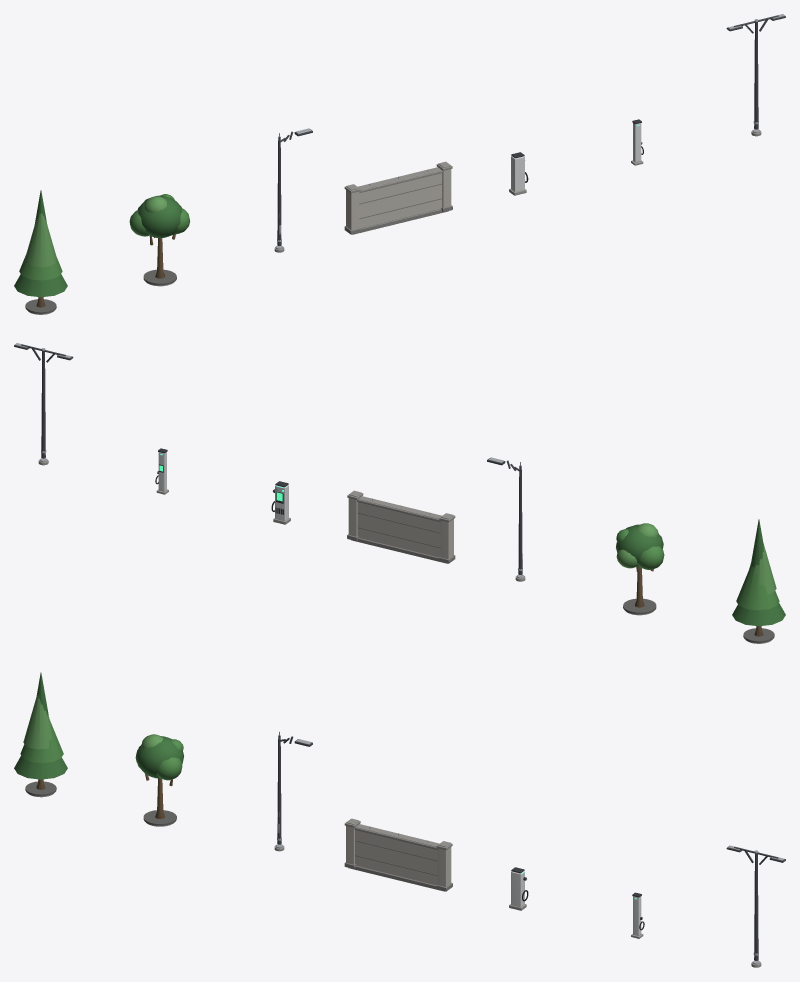
The model's file is env_props.glb.
3 views of the same model, one above another, from view 1: azimuth 30°, elevation 25°; view 2: azimuth 150°, elevation 25°; view 3: azimuth 330°, elevation 25° (orthographic).
Parts seen in each view (by area): view 1: WallSegment, TreeCone, TreeBall, Lamp_B, Lamp, ChargingPile; view 2: WallSegment, TreeCone, TreeBall, Lamp_B, Lamp, ChargingPile; view 3: WallSegment, TreeCone, TreeBall, Lamp_B, Lamp, ChargingPile.
Part boxes in pixels (left/top/right/bottom): WallSegment: left=344, top=161, right=452, bottom=234; TreeCone: left=14, top=190, right=67, bottom=314; TreeBall: left=129, top=194, right=190, bottom=286; Lamp_B: left=726, top=14, right=785, bottom=136; Lamp: left=274, top=128, right=312, bottom=252; ChargingPile: left=509, top=152, right=528, bottom=195; WallSegment: left=347, top=490, right=455, bottom=563; TreeCone: left=732, top=519, right=785, bottom=643; TreeBall: left=616, top=523, right=664, bottom=615; Lamp_B: left=14, top=343, right=73, bottom=465; Lamp: left=487, top=457, right=525, bottom=581; ChargingPile: left=271, top=481, right=290, bottom=524; WallSegment: left=344, top=818, right=452, bottom=891; TreeCone: left=14, top=672, right=67, bottom=797; TreeBall: left=135, top=734, right=183, bottom=826; Lamp_B: left=726, top=845, right=785, bottom=967; Lamp: left=274, top=731, right=312, bottom=851; ChargingPile: left=509, top=867, right=528, bottom=910.
Size of the model in its own units: 32.16 by 4.76 by 2.
